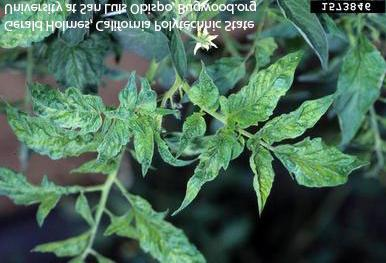Tomato leaf mosaic virus: (220, 44, 314, 130), (269, 131, 371, 194), (170, 129, 239, 218), (252, 88, 341, 151), (21, 77, 104, 134), (128, 115, 158, 180), (192, 58, 222, 107)
